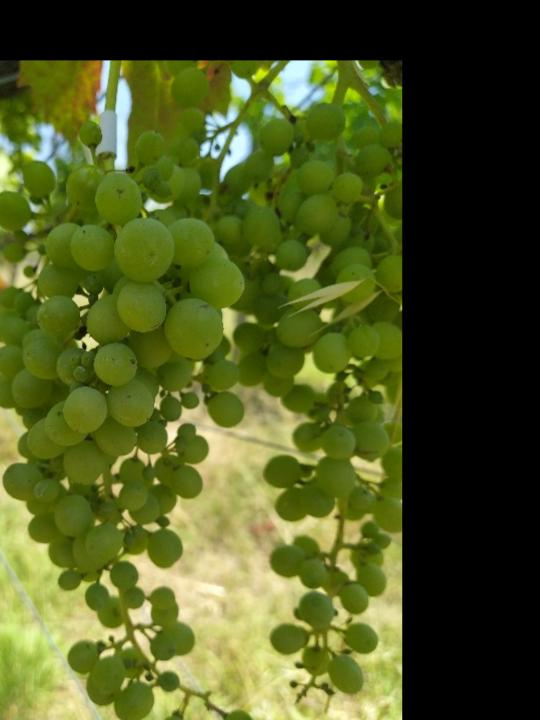grape: (0, 118, 262, 720)
